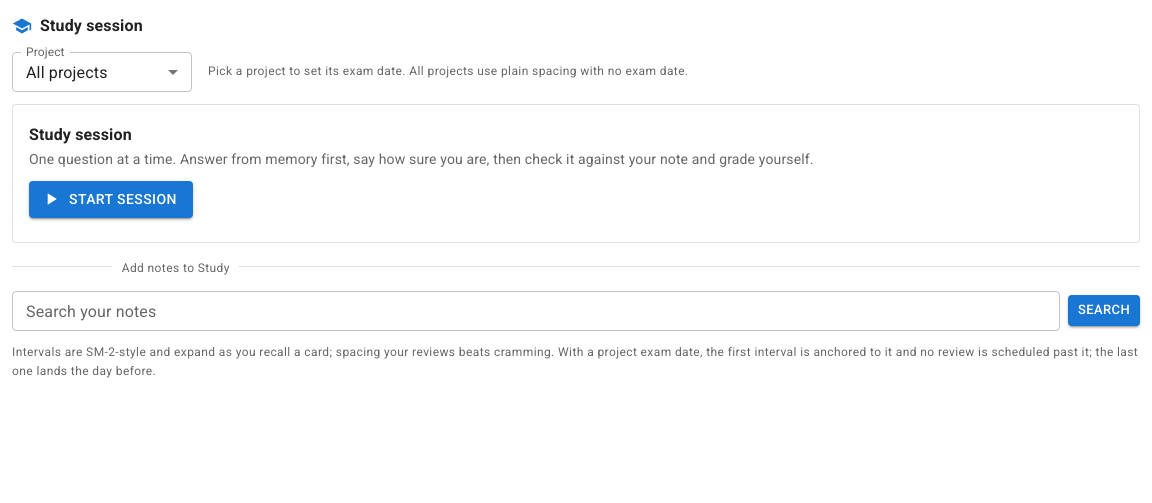
Test: ReviewView › searches notes and enqueues one for review
Type "cell" into the field labelled "Search your notes" at (536, 310), box x1=12 y1=290 x2=1060 y2=330
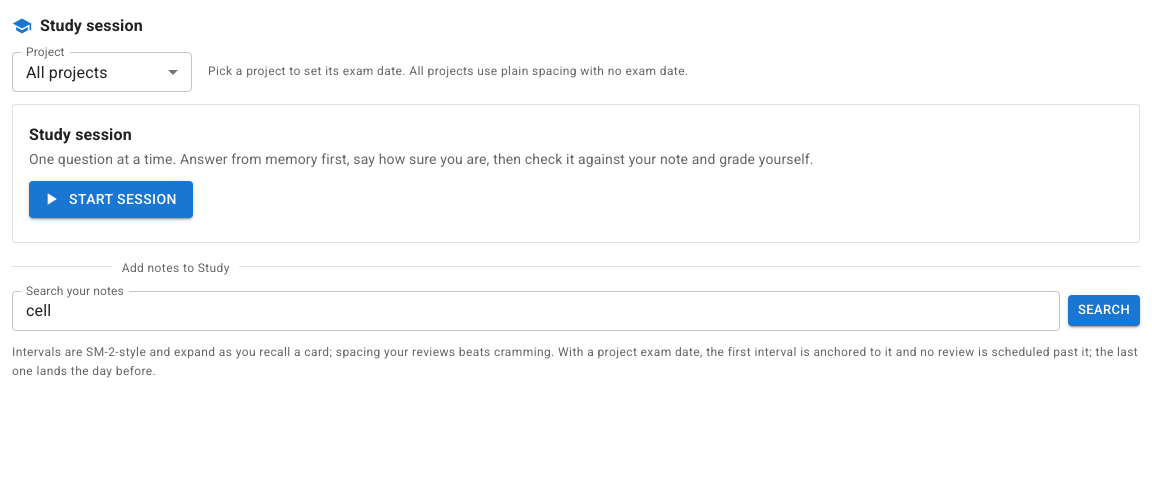
Click the button "Search" at (1104, 310), box x1=1068 y1=295 x2=1140 y2=326
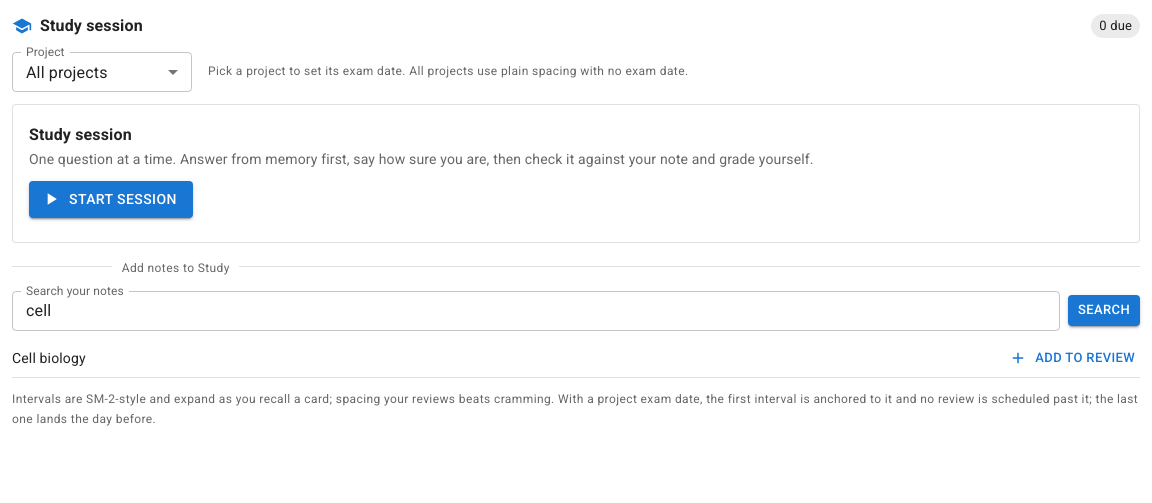
expect the text "Cell biology" is shown: met, box x1=12 y1=350 x2=86 y2=366
Click the button "Add to review" at (1073, 358), box x1=1006 y1=342 x2=1140 y2=373
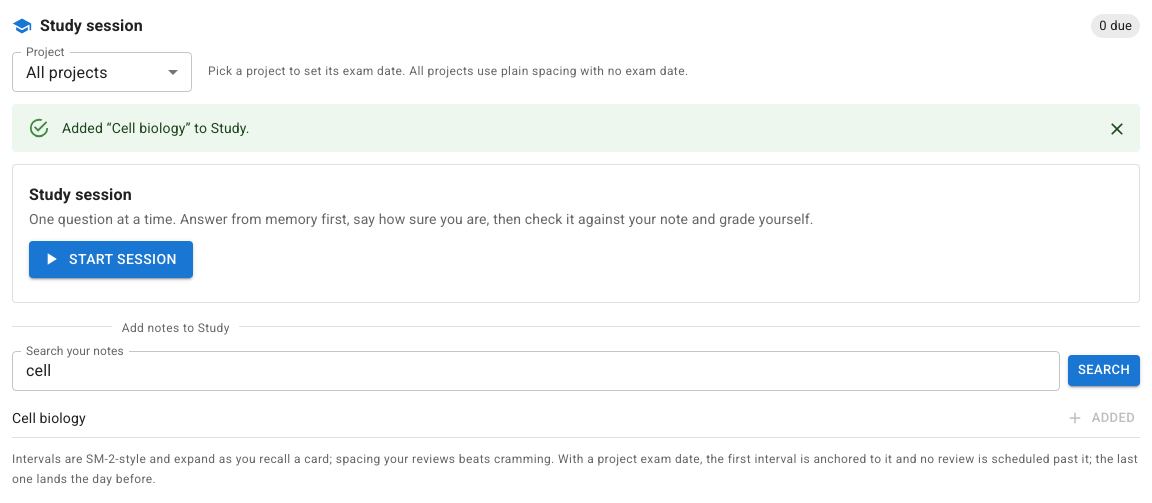
expect the text "Added “Cell biology” to Study." is shown: met, box x1=62 y1=120 x2=250 y2=136
